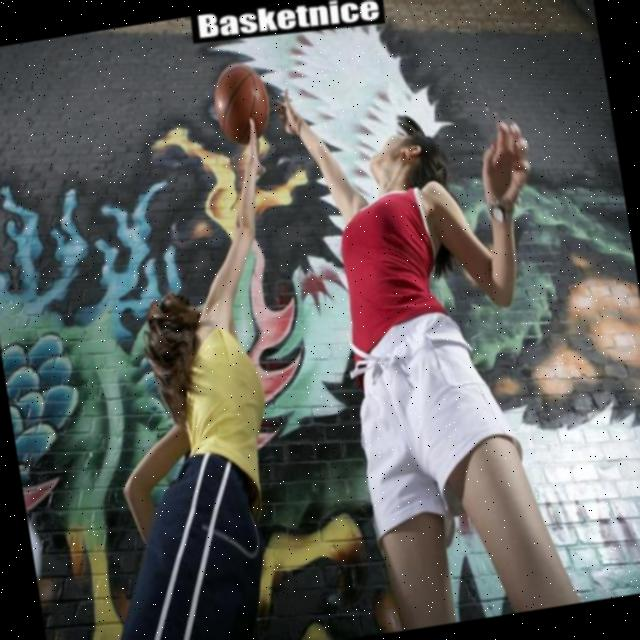ball: (206, 56, 278, 152)
